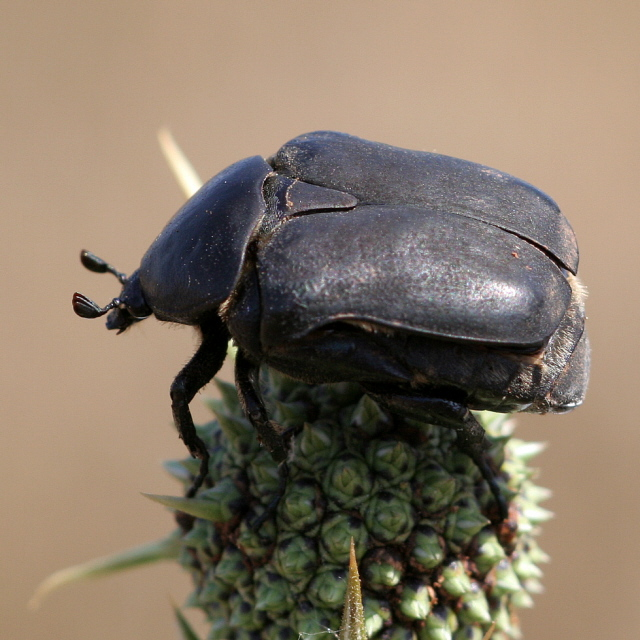Protaetia_afflicta: (67, 118, 581, 527)
